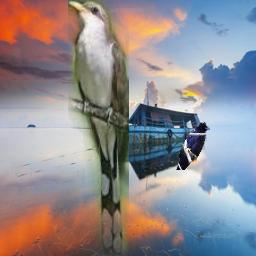Crow: (176, 122, 210, 170)
Cuckoo: (68, 0, 129, 256)
